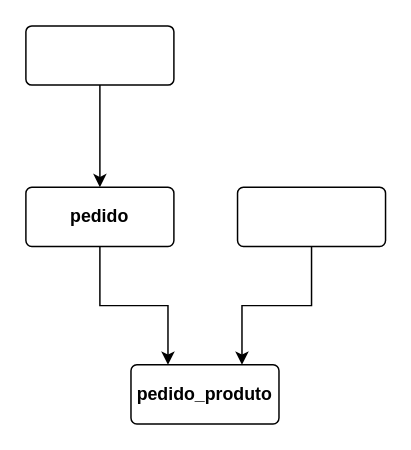
The diagram is 411 pixels wide and 450 high, and some of its shapes have lost their labels. The shapes that lost their labels are listed below. From the top down, each one's centre as x and y in pixels, then its label:
[99,54]: usuario
[311,216]: produto
